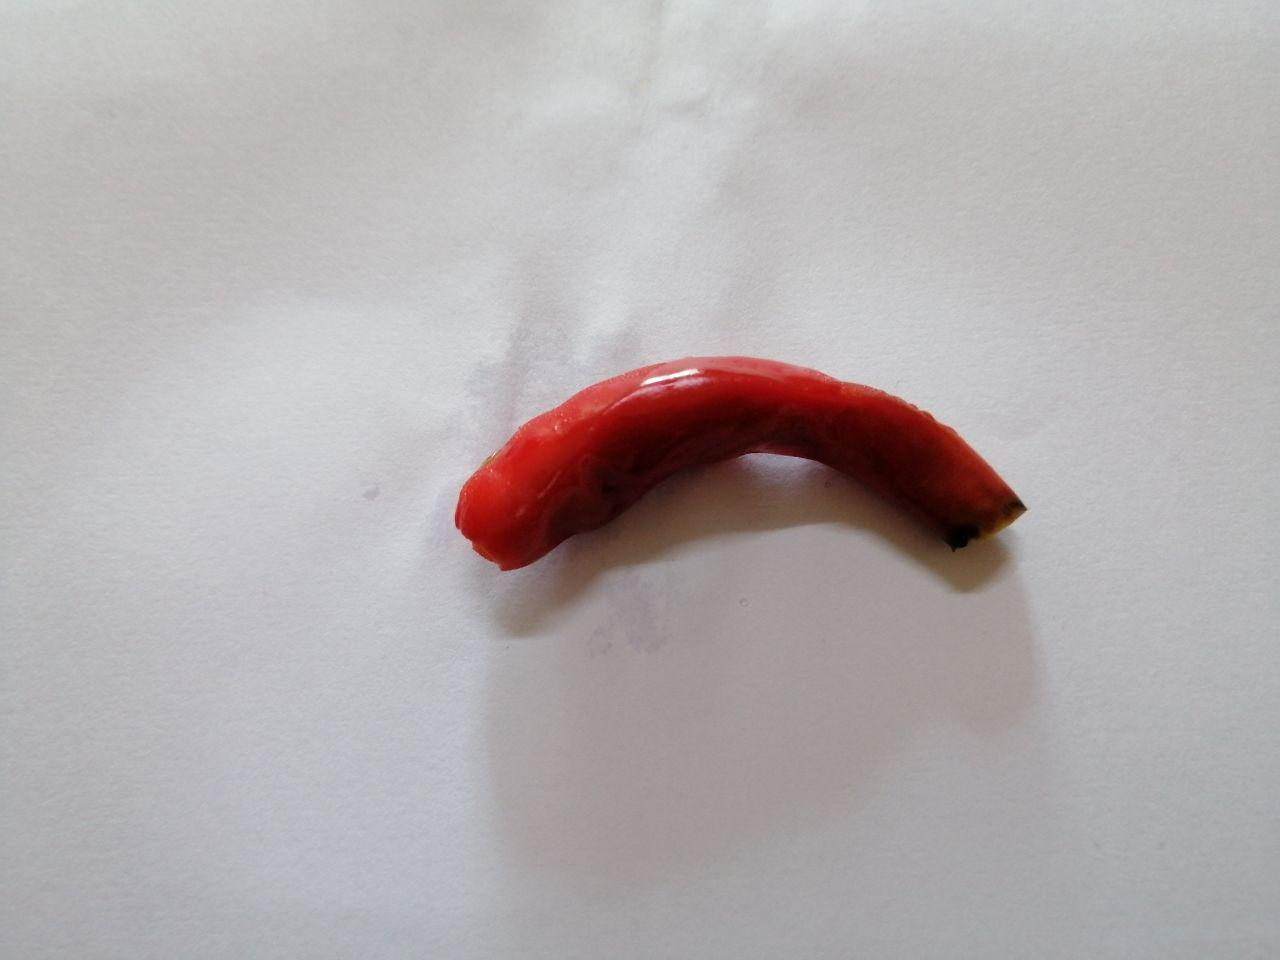lada merah: (416, 337, 1055, 622)
